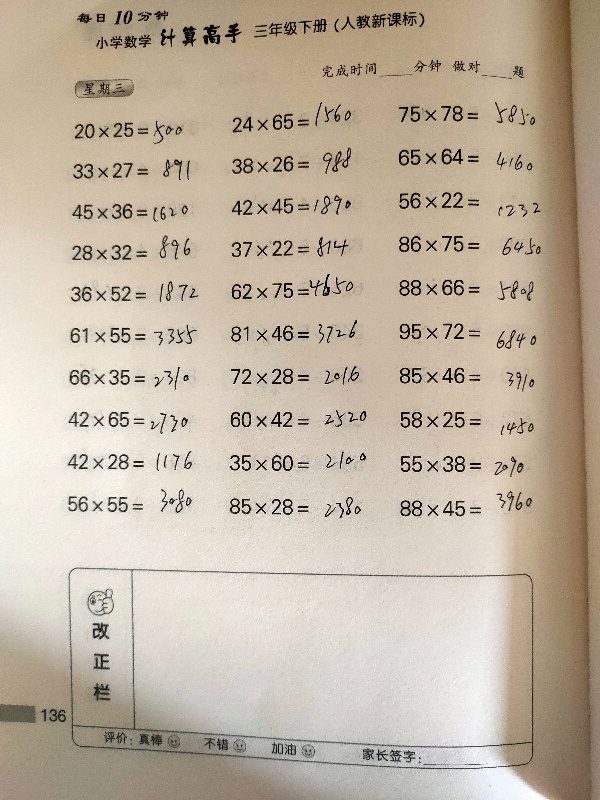equation: (395, 93, 552, 139), (387, 316, 551, 359), (381, 268, 549, 308), (383, 183, 548, 223), (396, 401, 549, 443), (220, 397, 377, 436), (229, 485, 375, 525), (223, 184, 360, 225), (392, 443, 531, 483), (388, 364, 555, 397), (219, 272, 372, 308), (389, 140, 537, 177), (52, 488, 200, 525), (212, 228, 368, 263), (55, 356, 204, 392), (59, 233, 196, 272), (216, 353, 363, 389), (391, 228, 551, 261), (388, 487, 552, 519), (223, 97, 356, 136), (221, 443, 373, 477), (64, 153, 204, 189), (63, 404, 199, 441), (221, 145, 364, 180), (216, 311, 363, 345), (60, 279, 216, 309), (63, 109, 192, 145), (60, 196, 200, 229), (55, 451, 205, 481), (60, 317, 199, 349)
